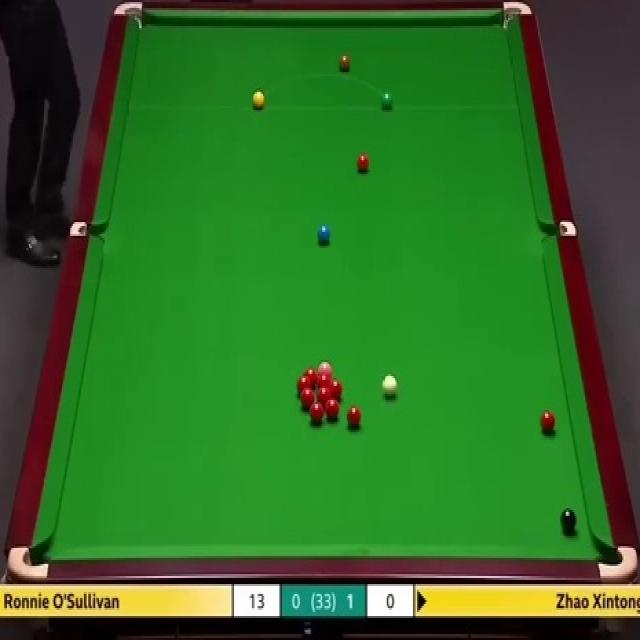pocket: (596, 545, 640, 583), (8, 545, 48, 580), (113, 0, 143, 29), (503, 3, 533, 28), (71, 218, 105, 240), (541, 220, 577, 240)
